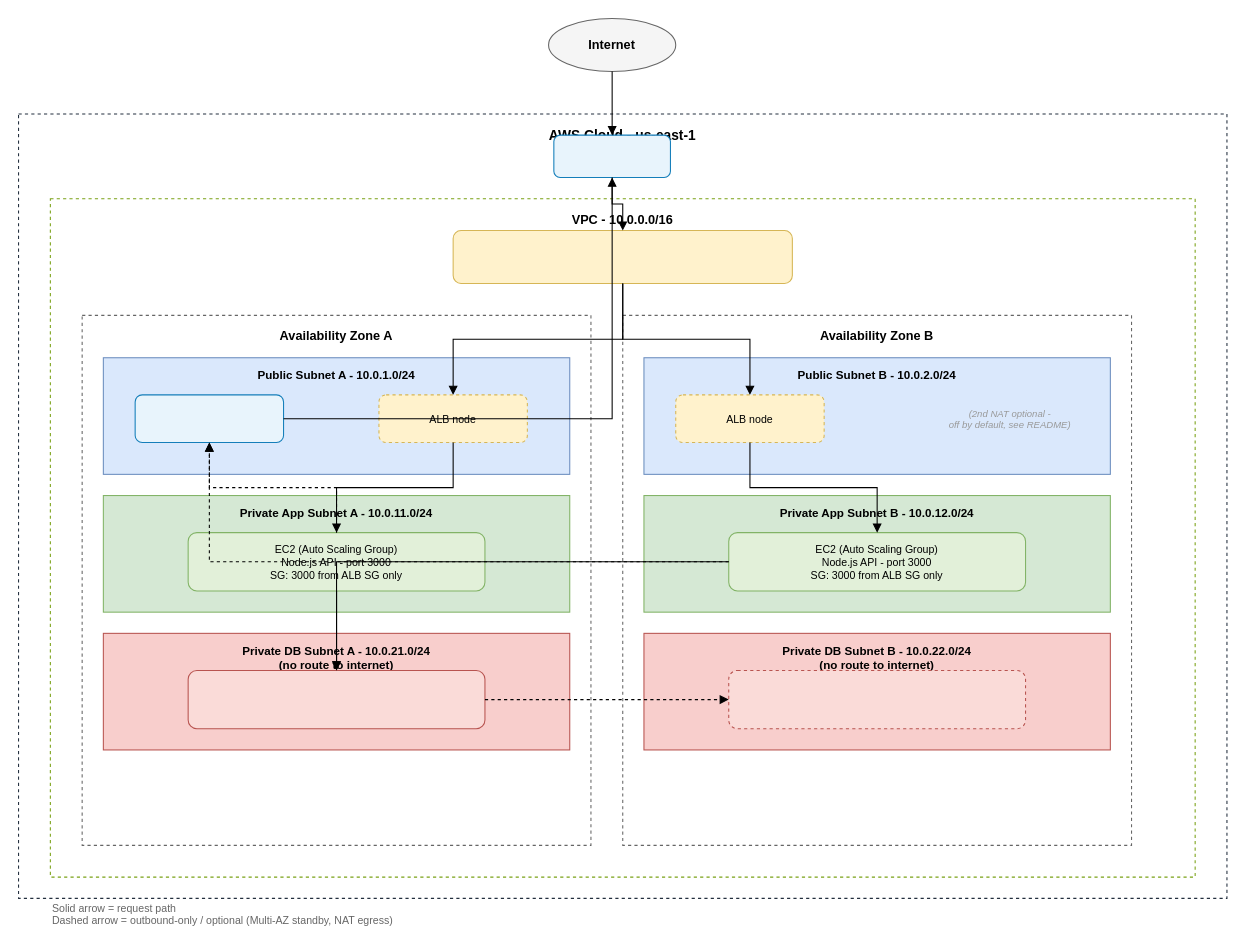
The diagram is 1245 pixels wide and 949 high, and some of its shapes have lost their labels. Here are the shapes that lost their labels. From the top down, the centre of each, then its label:
At (x=611, y=156): "Internet Gateway".
At (x=622, y=256): "Application Load Balancer (public subnets, SG: 80 from 0.0.0.0/0)".
At (x=209, y=418): "NAT Gateway".
At (x=336, y=699): "RDS PostgreSQL - primary PubliclyAccessible: false SG: 5432 from App SG only".
At (x=877, y=699): "RDS standby (only if Multi-AZ enabled)".
